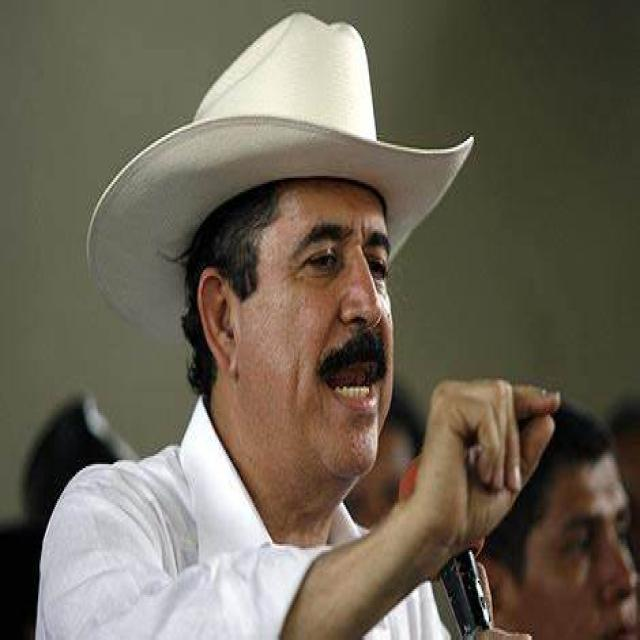illegal_helmet: (78, 5, 478, 513)
